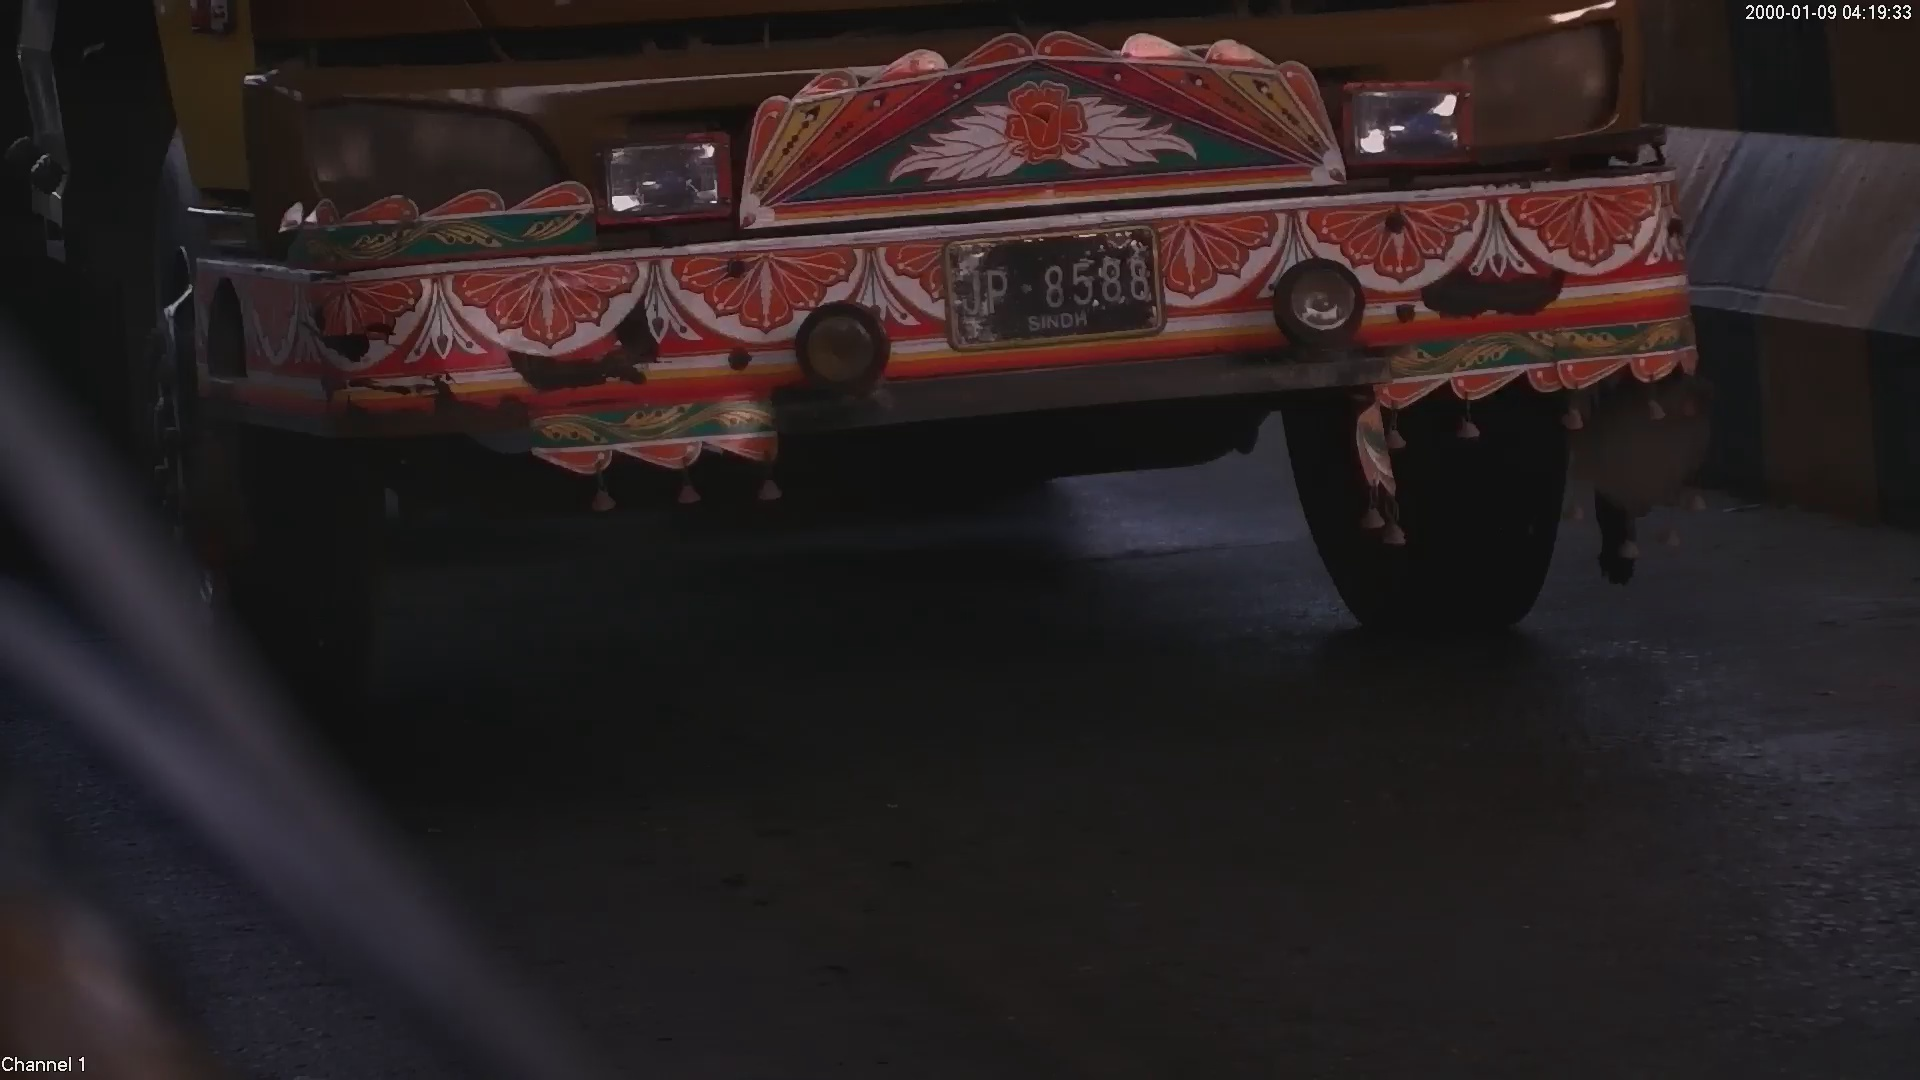Number_Plate: (919, 205, 1187, 362)
Undefined: (1334, 64, 1658, 349), (304, 103, 737, 270)
